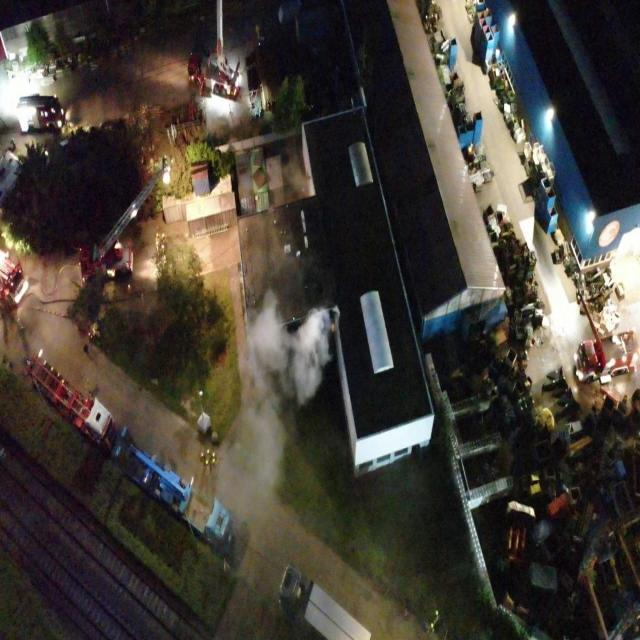Smoke: (214, 289, 340, 543), (280, 153, 310, 205)
